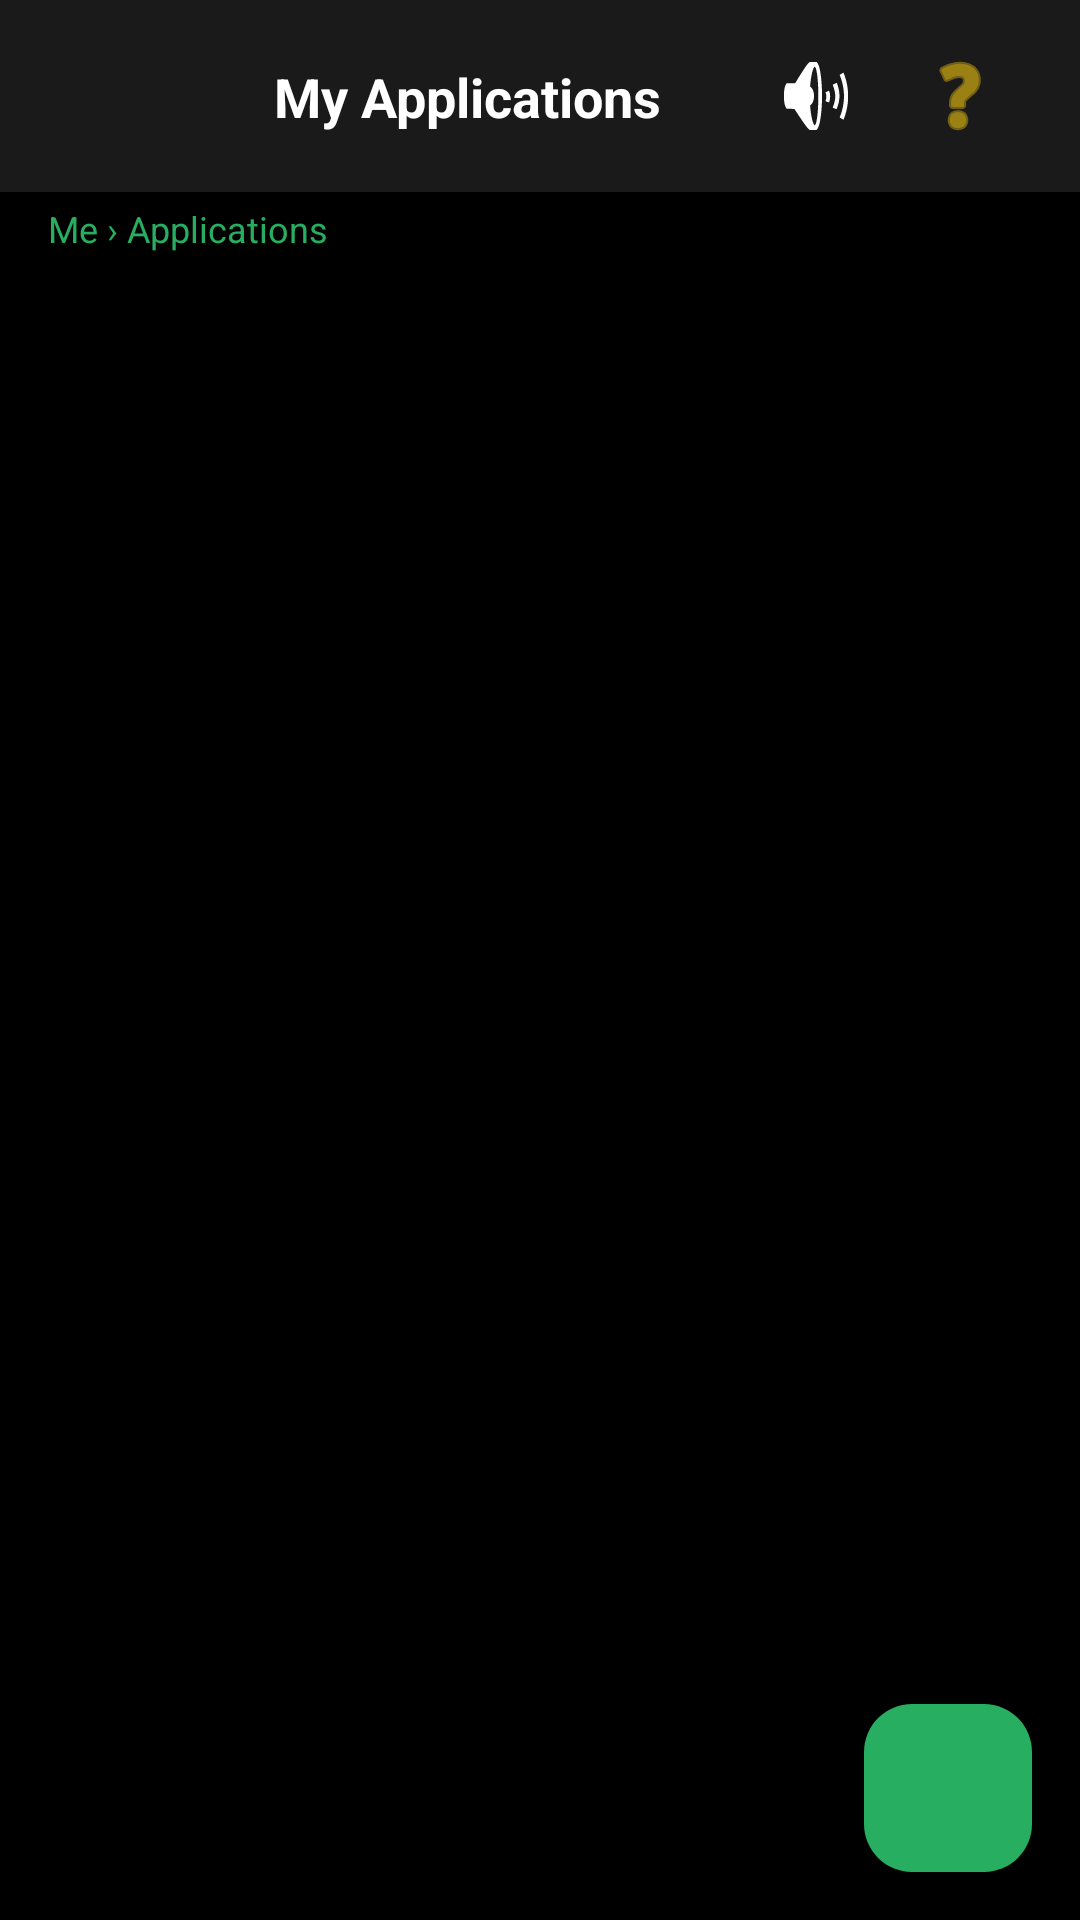

Locate icon controls on the screen. Image size 1080x1920, boxes as (x1, y1, x2, y2).
Explain this page: (939, 62, 981, 130)
Listen to this page: (784, 62, 848, 130)
